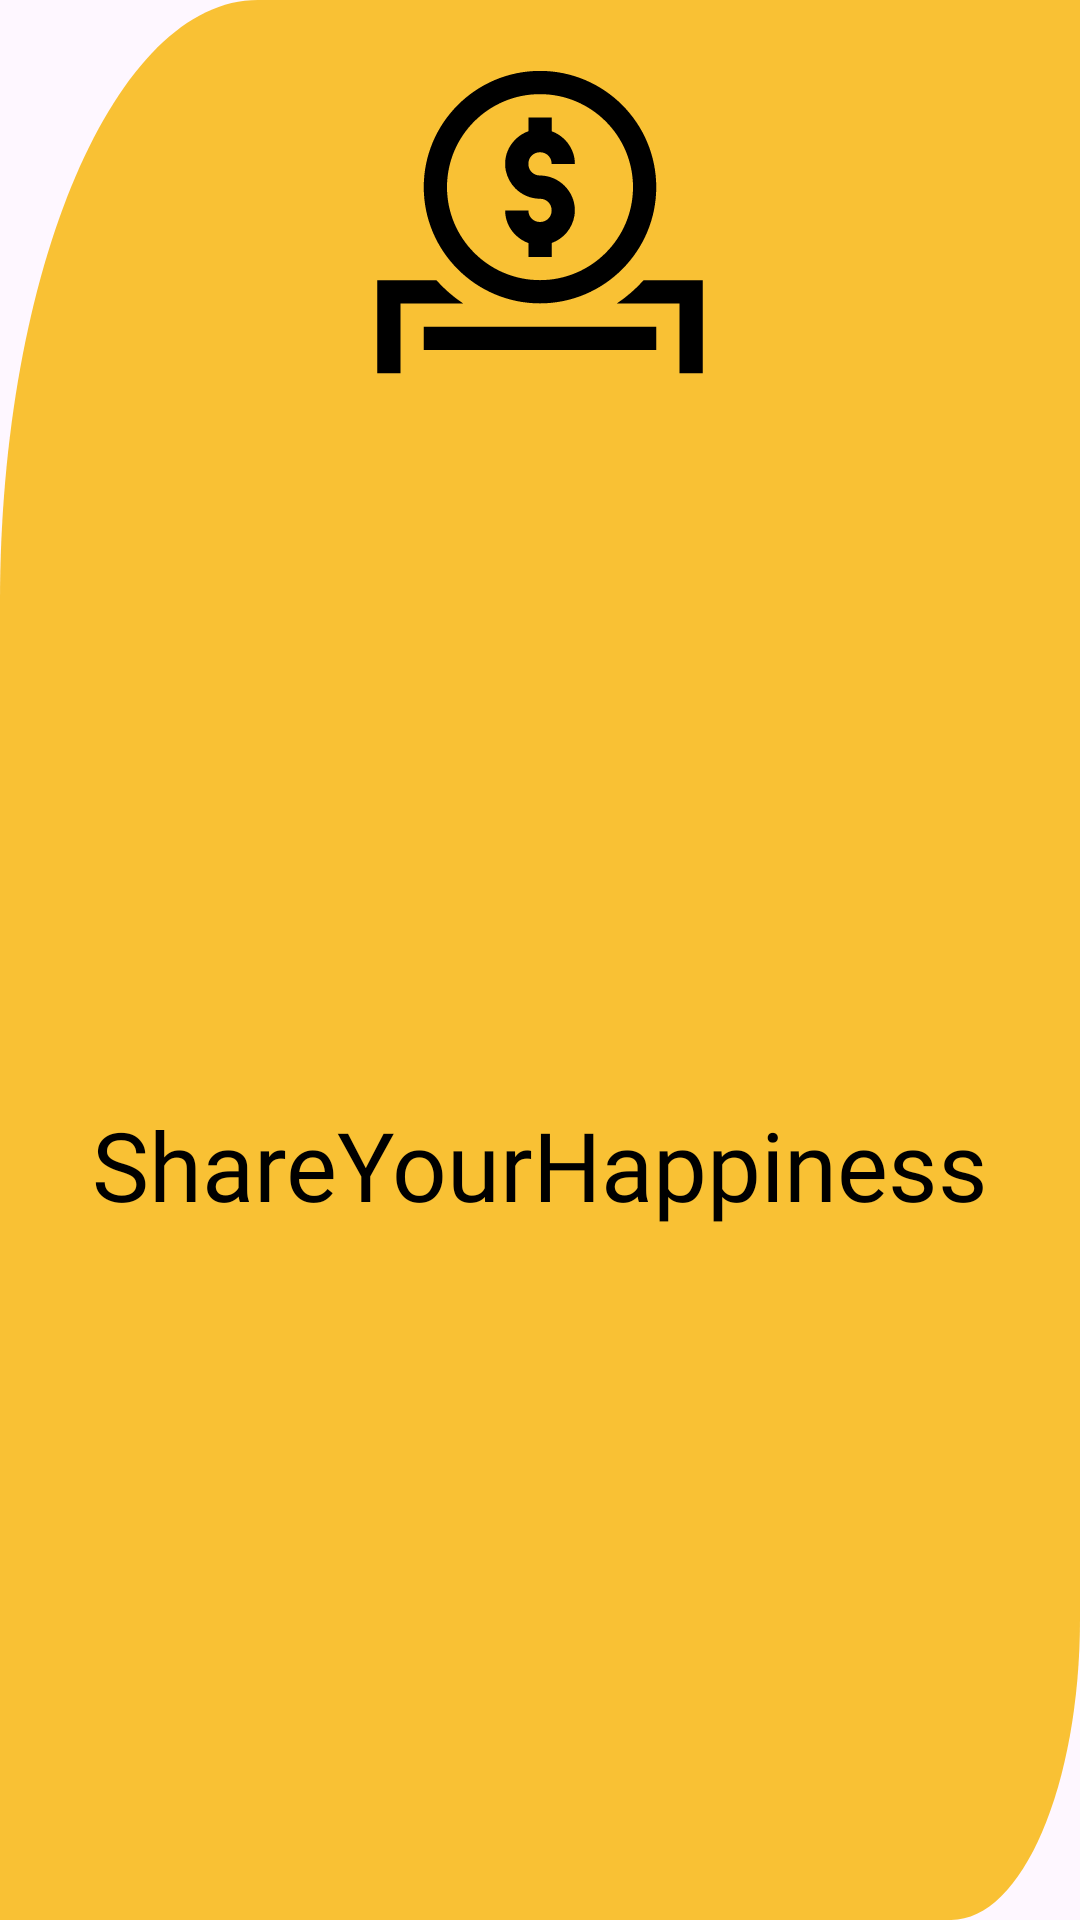

Screen size 1080 x 1920. Icon name, then its center in pixels as [x,y]:
givememoney: [540,222]
